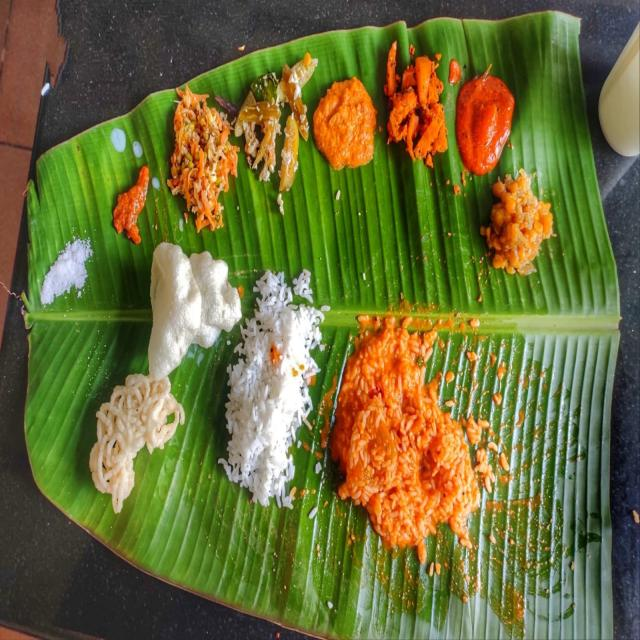veg meals: (29, 40, 562, 578)
